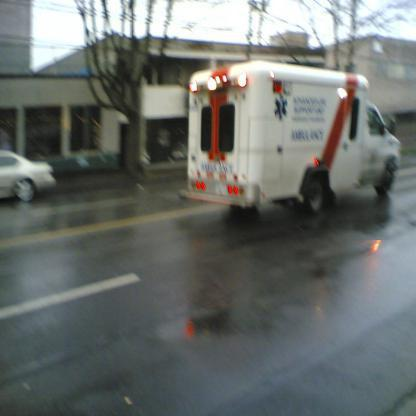ambulance_on: (178, 63, 399, 212)
